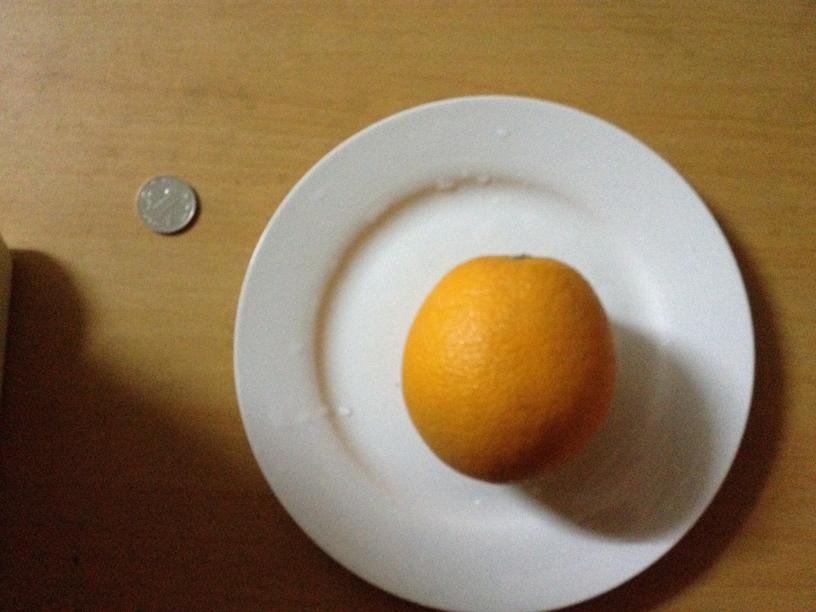coin: (136, 176, 198, 235)
orange: (400, 253, 614, 484)
